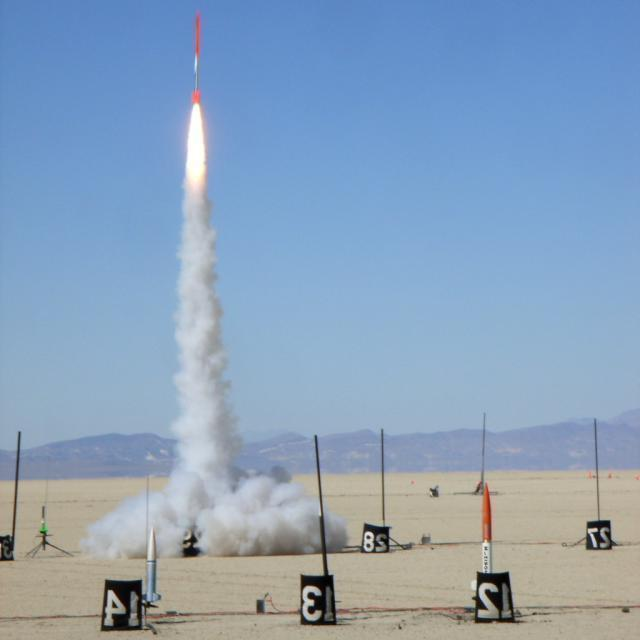missile: (194, 12, 200, 100)
